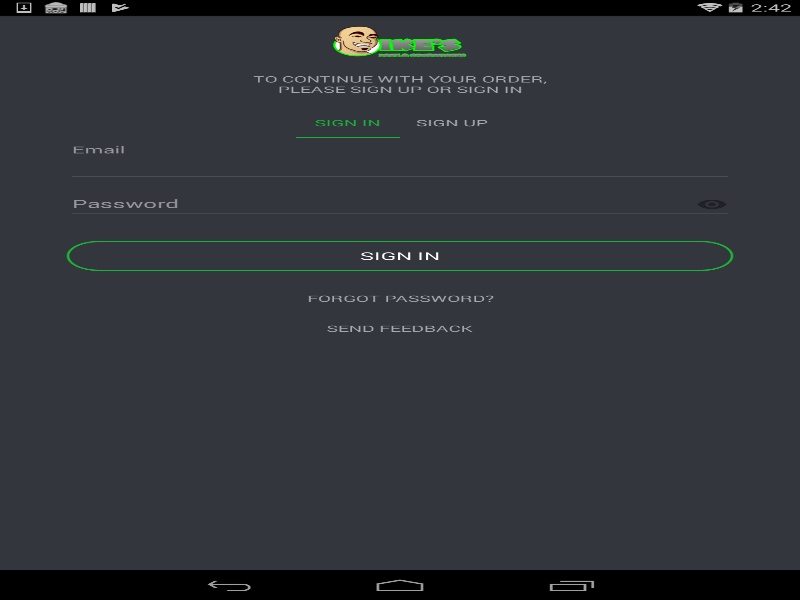Button: (66, 240, 733, 270), (290, 283, 509, 313), (310, 313, 488, 343), (690, 190, 733, 218)
Input: (66, 190, 733, 219), (66, 153, 733, 181)
